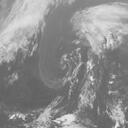cyclone: (35, 23, 100, 91)
